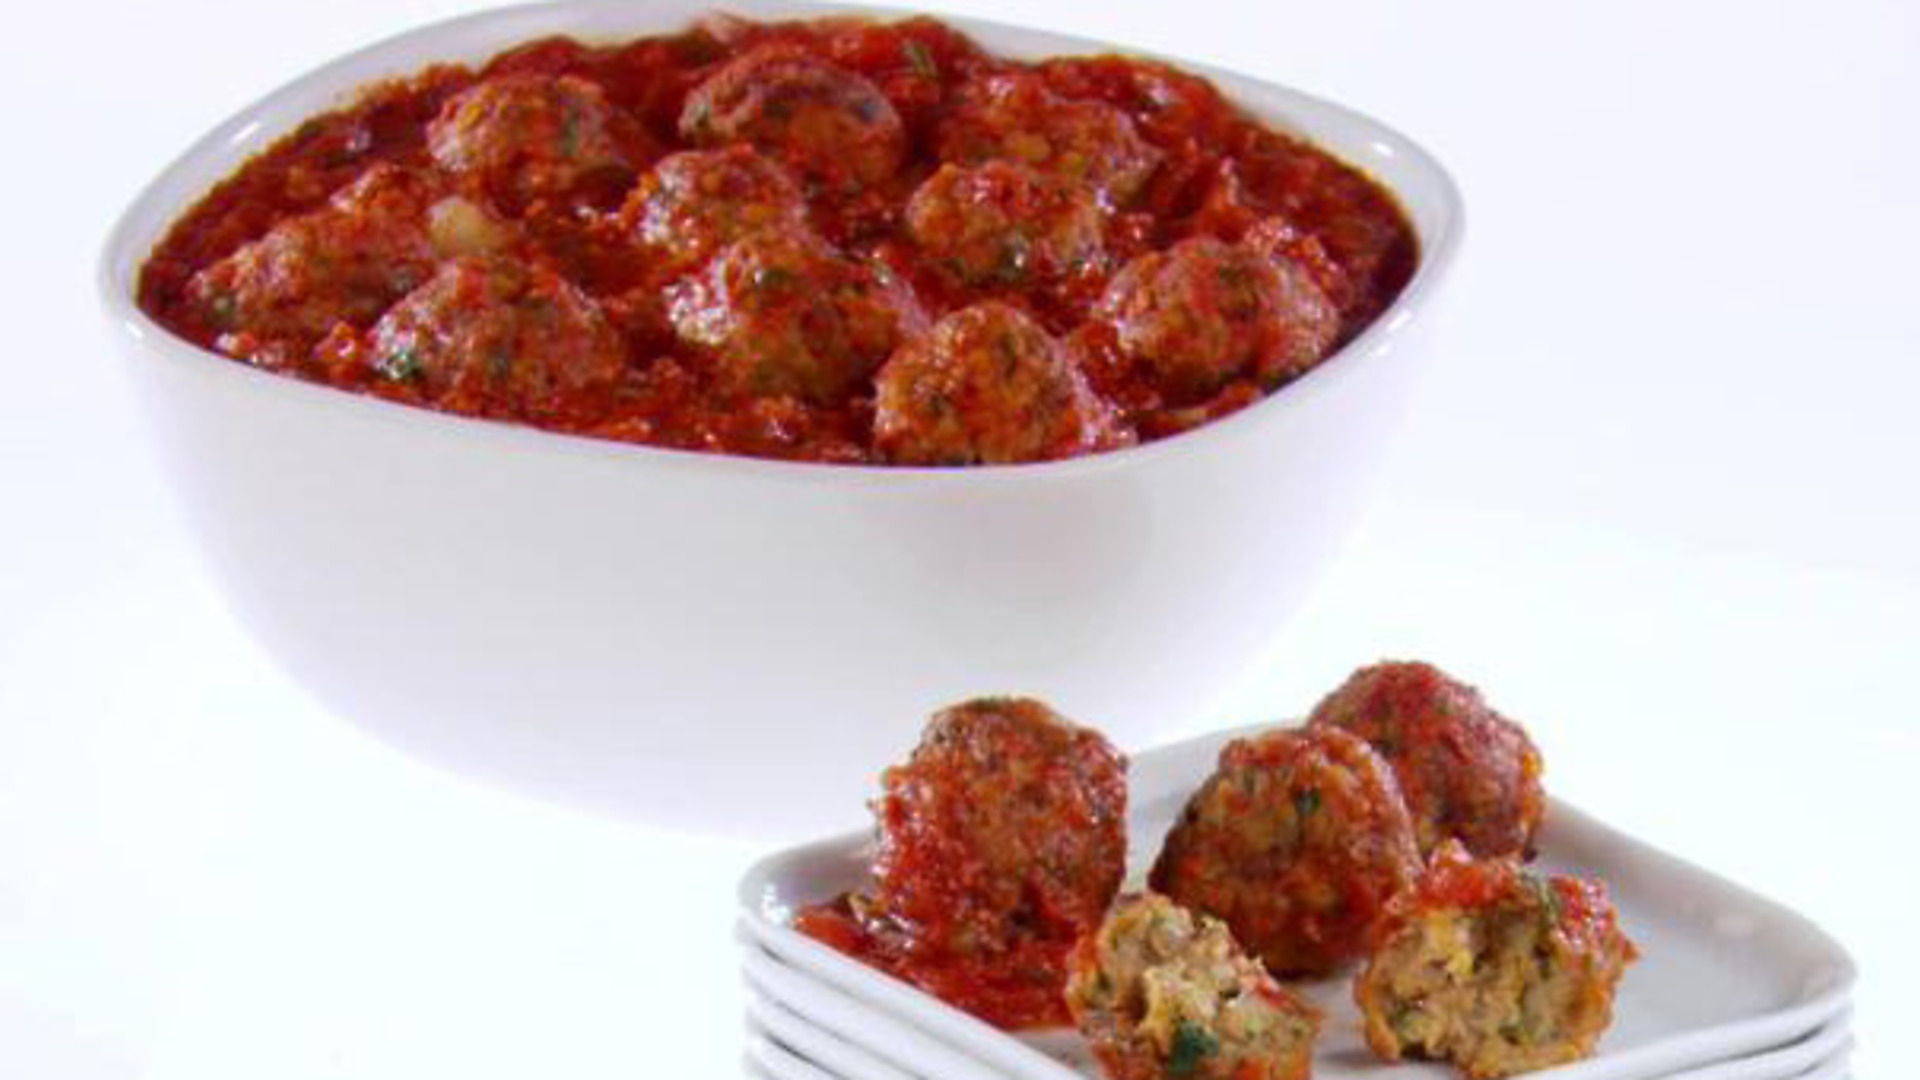meatballs: (224, 5, 1378, 465), (856, 657, 1651, 1080)
